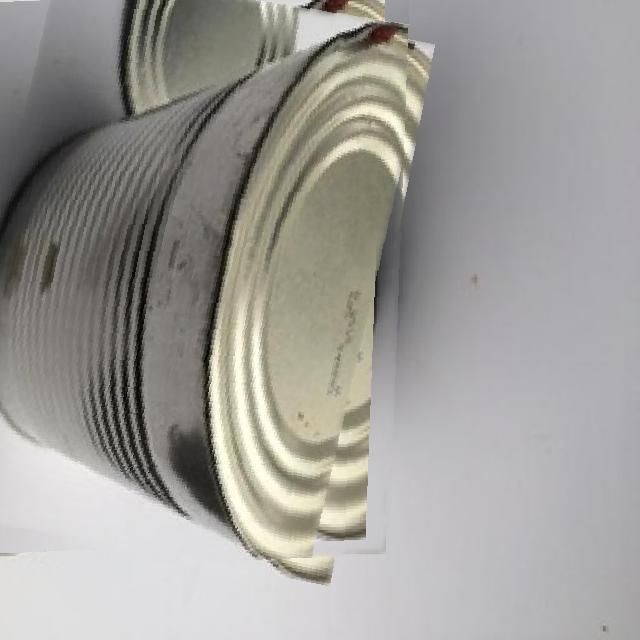recyclable: (0, 0, 410, 570), (142, 0, 305, 149)
